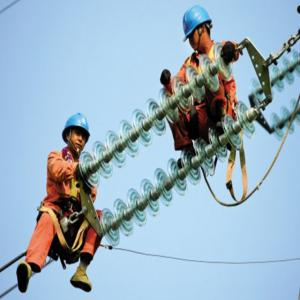blue: (181, 3, 214, 56), (61, 111, 92, 156)
